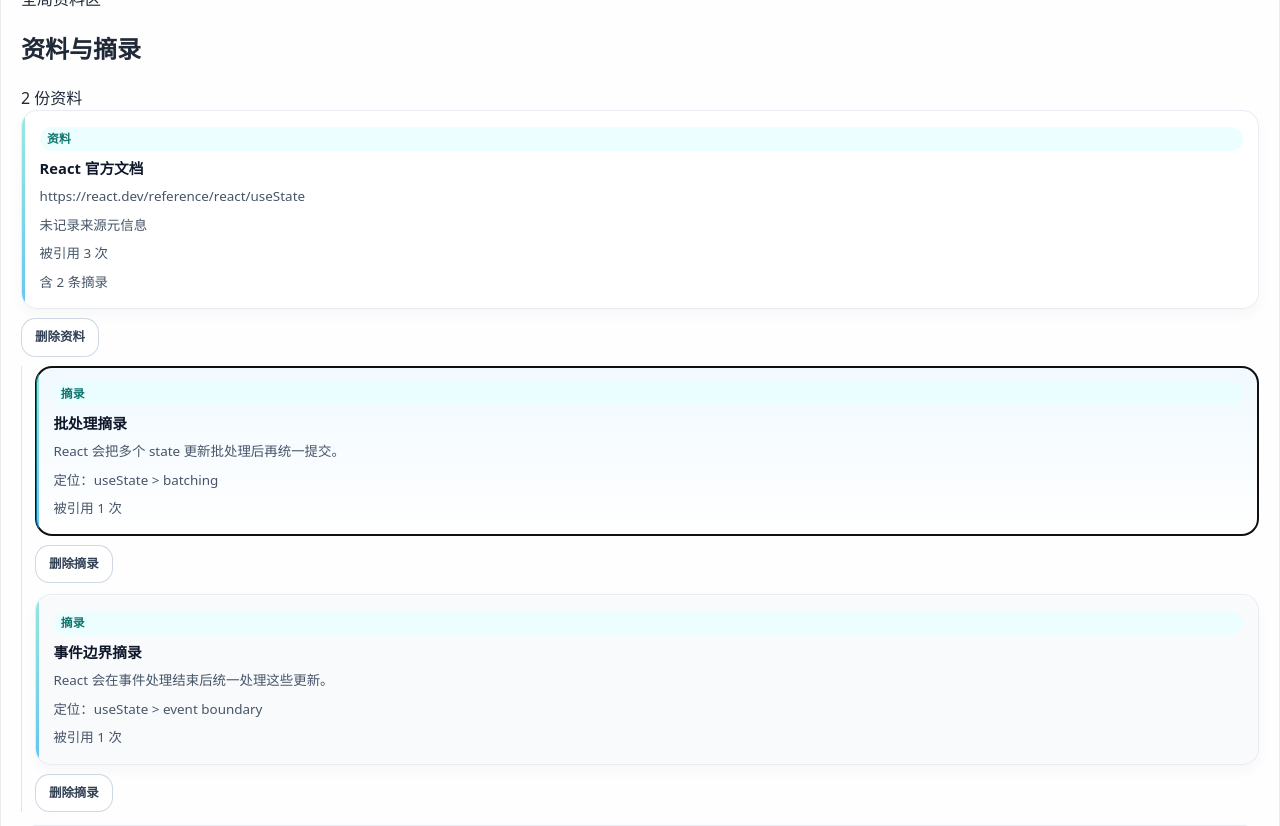
confirms fragment deletion impact and restores resource focus to the parent resource
(page scrolled)
Click the button with aria-label "删除摘录 批处理摘录".
click(74, 564)  # box [35,545,113,583]
(page scrolled)
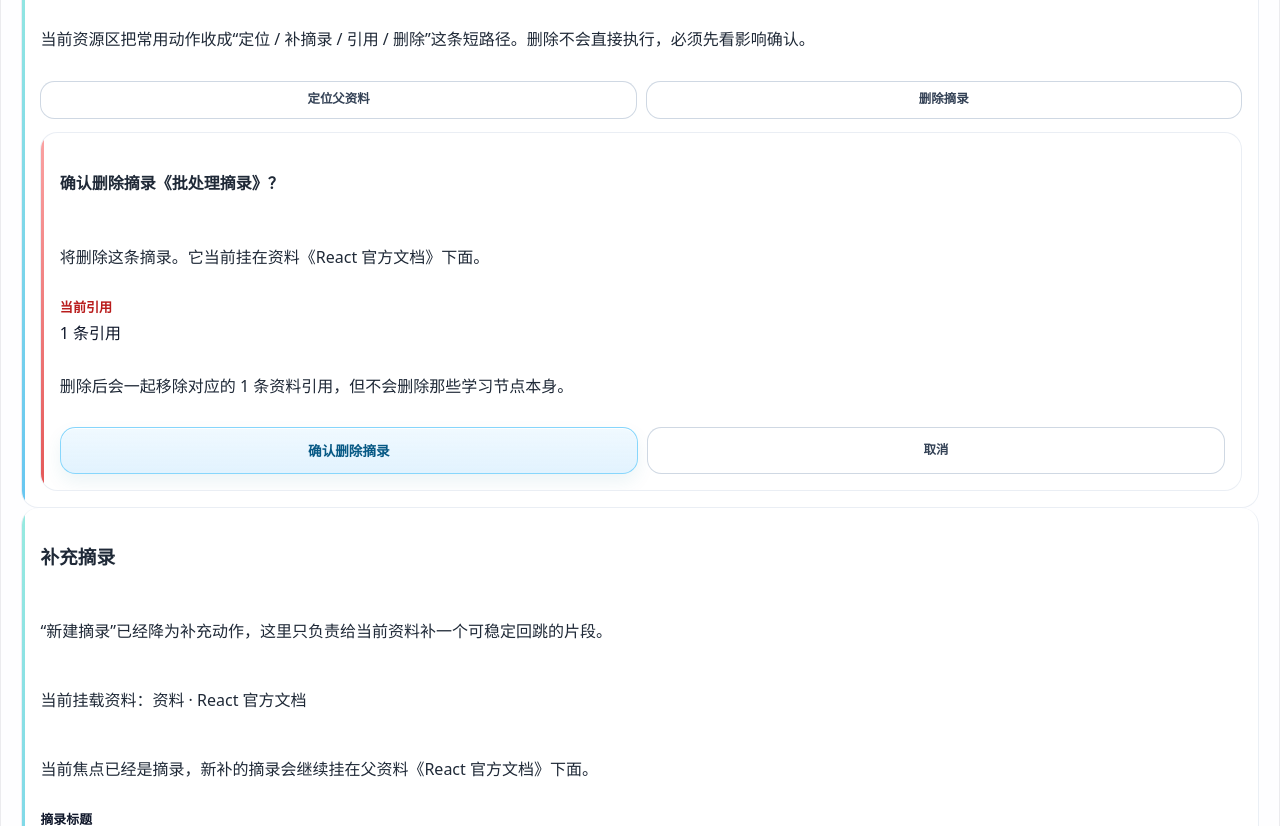
Check: the heading "确认删除摘录《批处理摘录》？" is shown, box [60,172,284,194]
Check: the text "删除后会一起移除对应的 1 条资料引用，但不会删除那些学习节点本身。" is shown, box [60,375,573,397]
Click the button "确认删除摘录".
click(349, 451)  # box [60,427,638,474]
(page scrolled)
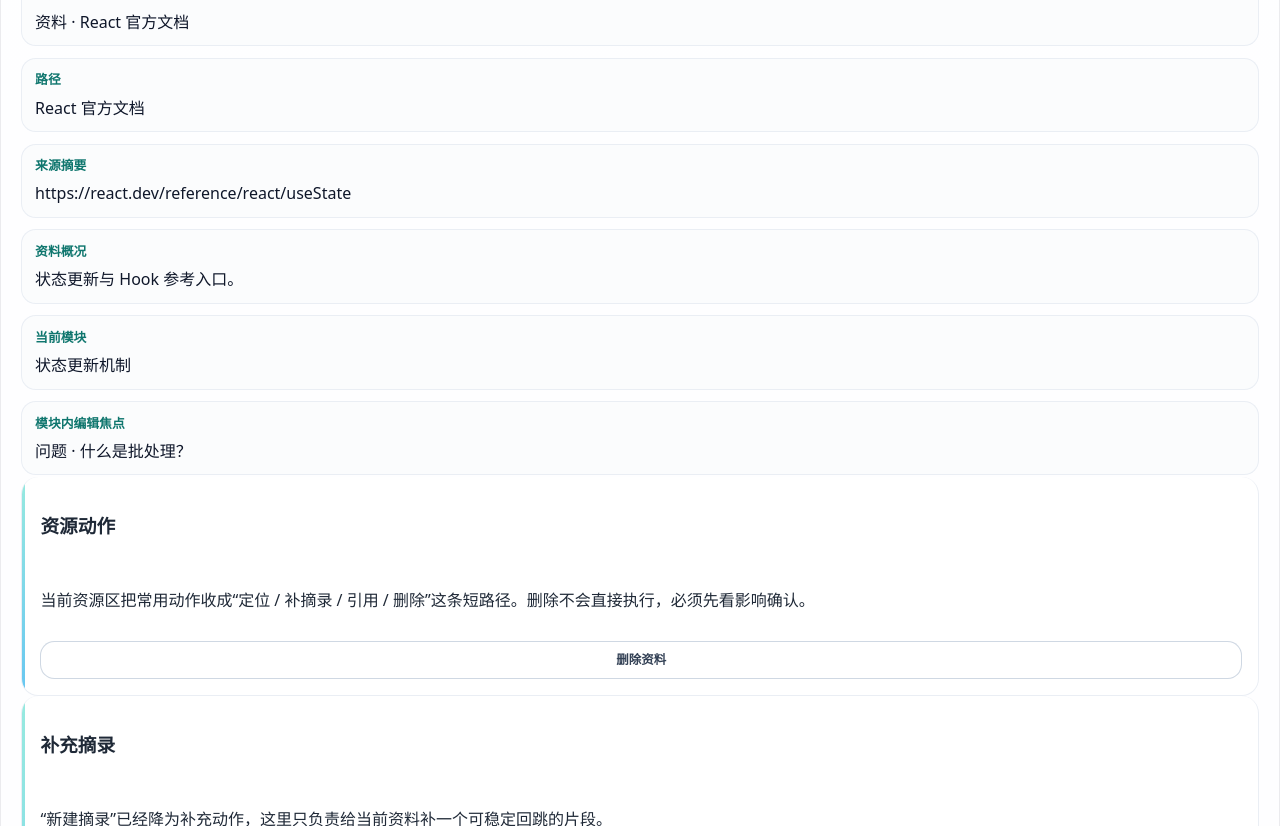
Check: the text "问题 · 什么是批处理？" is shown, box [35,440,192,462]
Check: the text "资料 · React 官方文档" is shown, box [35,11,189,33]
